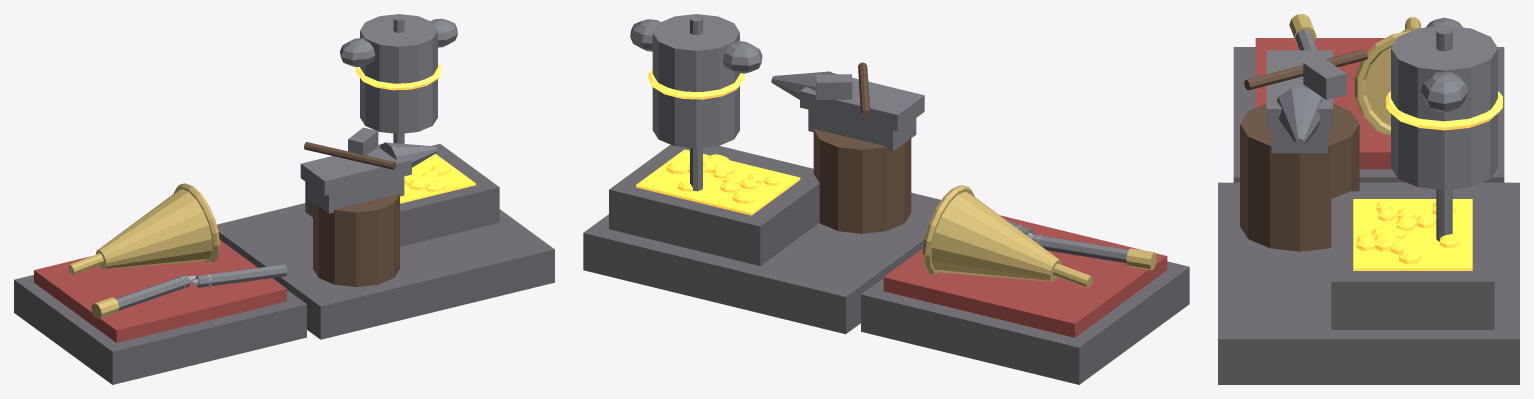
Rendered from vu_khi_sat_va_loa_su_gia.glb.
3 renders of one model, left to right at view 1: azimuth 30°, elevation 25°; view 2: azimuth 150°, elevation 25°; view 3: azimuth 270°, elevation 25°, orthographic. The views are drawn at different scales.
Parts seen in each view (by area): view 1: Vu_Khi_Sat_Va_Loa_Su_Gia; view 2: Vu_Khi_Sat_Va_Loa_Su_Gia; view 3: Vu_Khi_Sat_Va_Loa_Su_Gia.
Part boxes in pixels (x1=…): Vu_Khi_Sat_Va_Loa_Su_Gia: x1=14, y1=14, x2=554, y2=384; Vu_Khi_Sat_Va_Loa_Su_Gia: x1=583, y1=14, x2=1189, y2=384; Vu_Khi_Sat_Va_Loa_Su_Gia: x1=1218, y1=14, x2=1519, y2=384.
Bounding box in the file's own units: 2.2 × 1.07 × 0.96.
